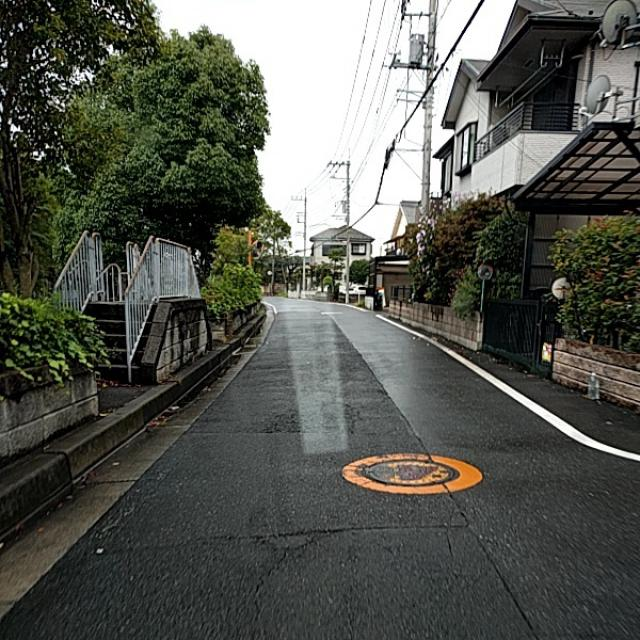pothole: (244, 516, 411, 564)
